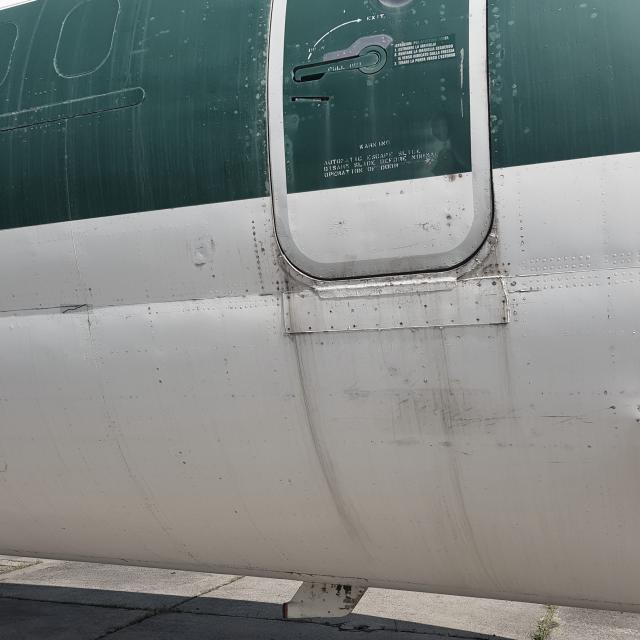crack: (61, 306, 94, 316)
